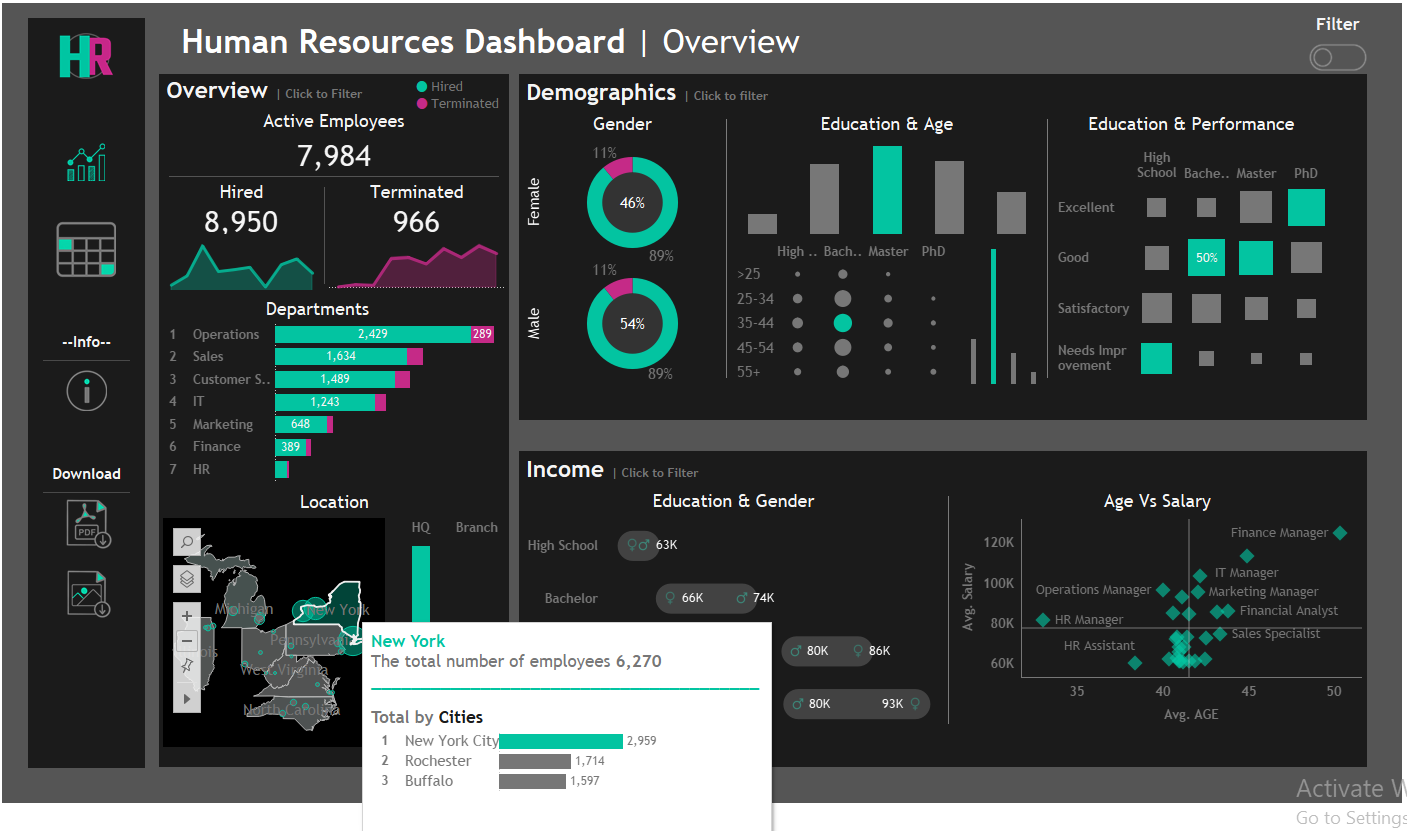

This screenshot's page, from the dashboard's own definition file:
{"tool":"tableau","page":{"name":"HR | Summary (3)","canvas":[1400,800],"ordinal":3},"visuals":[{"type":"blank","box":[7,7,130,393]},{"type":"text","box":[143,7,676,64]},{"type":"blank","box":[819,7,536,64]},{"type":"text","box":[149,77,352,32]},{"type":"text","box":[509,79,838,35]},{"type":"text","box":[149,109,352,29]},{"type":"text","box":[511,116,207,29]},{"type":"blank","box":[718,116,25,246]},{"type":"text","box":[743,116,261,29]},{"type":"blank","box":[1004,116,25,246]},{"type":"text","box":[1029,116,316,29]},{"type":"worksheet","title":"Active","mark":"Text","box":[149,138,352,41]},{"type":"worksheet","title":"Gender","mark":"Pie","rows":["Gender"],"cols":["Calculation_1937110846429085710","Calculation_1937110846429085710"],"box":[511,145,207,217]},{"type":"worksheet","title":"Age Group","mark":"Bar","rows":["Calculation_1937110846402056192"],"cols":["Calculation_1937110846440509456"],"box":[743,145,261,100]},{"type":"worksheet","title":"Education VS Performance","mark":"Square","rows":["Performance Rating"],"cols":["Education Level"],"box":[1029,145,316,217]},{"type":"blank","box":[149,179,352,25]},{"type":"text","box":[151,206,165,29]},{"type":"blank","box":[316,206,17,113]},{"type":"text","box":[333,206,166,29]},{"type":"worksheet","title":"HIRED","mark":"Text","box":[151,235,165,32]},{"type":"worksheet","title":"Terminated","mark":"Text","box":[333,235,166,32]},{"type":"worksheet","title":"Age VS Education","mark":"Pie","rows":["Calculation_1937110846440509456"],"cols":["Education Level"],"box":[743,245,152.5,117]},{"type":"worksheet","title":"Education Level","mark":"Bar","rows":["Calculation_1937110846402056192"],"cols":["Education Level"],"box":[895.5,245,108.5,117]},{"type":"worksheet","title":"Hired by Years","mark":"Line","rows":["Calculation_1937110846402056192","Calculation_1937110846402056192"],"cols":["Hiredate"],"box":[151,267,165,52]},{"type":"worksheet","title":"Terminated by Years","mark":"Line","rows":["Calculation_1937110846402326529","Calculation_1937110846402326529"],"cols":["Termdate"],"box":[333,267,166,52]},{"type":"blank","box":[149,321,118.7,25]},{"type":"text","box":[267.7,321,114.7,25]},{"type":"blank","box":[382.3,321,118.7,25]},{"type":"worksheet","title":"Departments","mark":"Bar","rows":["Calculation_1937110846415405062","Department"],"cols":["Calculation_1937110846402056192"],"box":[149,346,352,166]},{"type":"blank","box":[7,400,130,393]},{"type":"text","box":[509,415,838,35]},{"type":"text","box":[511,452,410.5,29]},{"type":"blank","box":[921.5,452,25,220]},{"type":"text","box":[946.5,452,398.5,29]},{"type":"worksheet","title":"Education VS Gender Level","mark":"Square","rows":["Education Level"],"cols":["Salary","Salary"],"box":[511,481,410.5,191]},{"type":"worksheet","title":"Age VS Salary","mark":"Shape","rows":["Salary"],"cols":["Calculation_1937110846439919631"],"box":[946.5,481,398.5,191]},{"type":"blank","box":[149,512,120,24]},{"type":"text","box":[269,512,112,24]},{"type":"blank","box":[381,512,120,24]},{"type":"worksheet","title":"MAP STATE","mark":"Automatic","box":[149,536,292,222]},{"type":"worksheet","title":"Location","mark":"Bar","rows":["Calculation_1937110846402056192"],"cols":["Calculation_1937110846422126599","Calculation1"],"box":[441,536,60,222]}]}

Visuals, with their boxes on the page's 1400x800 design canvas (x1, y1, x2, y2). These are canvas units, not pixel positions in the 1407x831 screenshot, which may show the page scaled, cropped or inside an application window:
blank: {"x1": 7, "y1": 7, "x2": 137, "y2": 400}
text: {"x1": 143, "y1": 7, "x2": 819, "y2": 71}
blank: {"x1": 819, "y1": 7, "x2": 1355, "y2": 71}
text: {"x1": 149, "y1": 77, "x2": 501, "y2": 109}
text: {"x1": 509, "y1": 79, "x2": 1347, "y2": 114}
text: {"x1": 149, "y1": 109, "x2": 501, "y2": 138}
text: {"x1": 511, "y1": 116, "x2": 718, "y2": 145}
blank: {"x1": 718, "y1": 116, "x2": 743, "y2": 362}
text: {"x1": 743, "y1": 116, "x2": 1004, "y2": 145}
blank: {"x1": 1004, "y1": 116, "x2": 1029, "y2": 362}
text: {"x1": 1029, "y1": 116, "x2": 1345, "y2": 145}
"Active" worksheet (Text marks): {"x1": 149, "y1": 138, "x2": 501, "y2": 179}
"Gender" worksheet (Pie marks): {"x1": 511, "y1": 145, "x2": 718, "y2": 362}
"Age Group" worksheet (Bar marks): {"x1": 743, "y1": 145, "x2": 1004, "y2": 245}
"Education VS Performance" worksheet (Square marks): {"x1": 1029, "y1": 145, "x2": 1345, "y2": 362}
blank: {"x1": 149, "y1": 179, "x2": 501, "y2": 204}
text: {"x1": 151, "y1": 206, "x2": 316, "y2": 235}
blank: {"x1": 316, "y1": 206, "x2": 333, "y2": 319}
text: {"x1": 333, "y1": 206, "x2": 499, "y2": 235}
"HIRED" worksheet (Text marks): {"x1": 151, "y1": 235, "x2": 316, "y2": 267}
"Terminated" worksheet (Text marks): {"x1": 333, "y1": 235, "x2": 499, "y2": 267}
"Age VS Education" worksheet (Pie marks): {"x1": 743, "y1": 245, "x2": 896, "y2": 362}
"Education Level" worksheet (Bar marks): {"x1": 896, "y1": 245, "x2": 1004, "y2": 362}
"Hired by Years" worksheet (Line marks): {"x1": 151, "y1": 267, "x2": 316, "y2": 319}
"Terminated by Years" worksheet (Line marks): {"x1": 333, "y1": 267, "x2": 499, "y2": 319}
blank: {"x1": 149, "y1": 321, "x2": 268, "y2": 346}
text: {"x1": 268, "y1": 321, "x2": 382, "y2": 346}
blank: {"x1": 382, "y1": 321, "x2": 501, "y2": 346}
"Departments" worksheet (Bar marks): {"x1": 149, "y1": 346, "x2": 501, "y2": 512}
blank: {"x1": 7, "y1": 400, "x2": 137, "y2": 793}
text: {"x1": 509, "y1": 415, "x2": 1347, "y2": 450}
text: {"x1": 511, "y1": 452, "x2": 922, "y2": 481}
blank: {"x1": 922, "y1": 452, "x2": 946, "y2": 672}
text: {"x1": 946, "y1": 452, "x2": 1345, "y2": 481}
"Education VS Gender Level" worksheet (Square marks): {"x1": 511, "y1": 481, "x2": 922, "y2": 672}
"Age VS Salary" worksheet (Shape marks): {"x1": 946, "y1": 481, "x2": 1345, "y2": 672}
blank: {"x1": 149, "y1": 512, "x2": 269, "y2": 536}
text: {"x1": 269, "y1": 512, "x2": 381, "y2": 536}
blank: {"x1": 381, "y1": 512, "x2": 501, "y2": 536}
"MAP STATE" worksheet: {"x1": 149, "y1": 536, "x2": 441, "y2": 758}
"Location" worksheet (Bar marks): {"x1": 441, "y1": 536, "x2": 501, "y2": 758}
